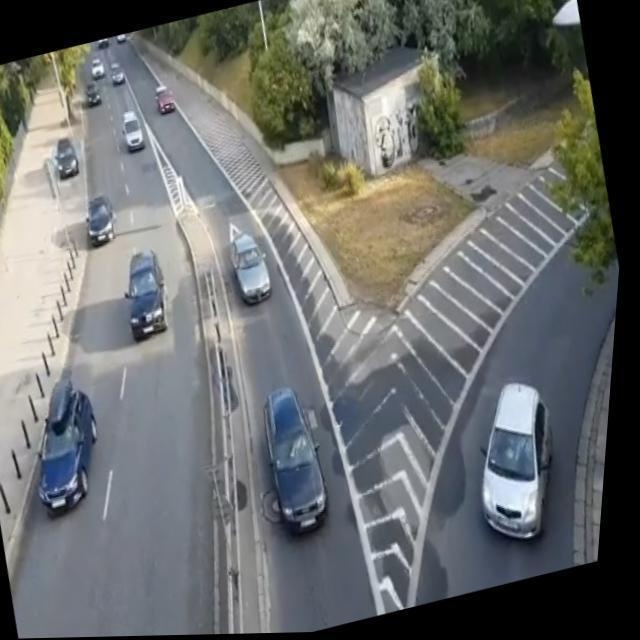Car: (251, 371, 354, 545), (472, 370, 557, 556), (31, 360, 106, 525), (227, 223, 287, 312), (124, 240, 172, 350), (82, 194, 121, 251), (49, 135, 85, 187), (116, 112, 146, 158), (152, 87, 181, 117)
